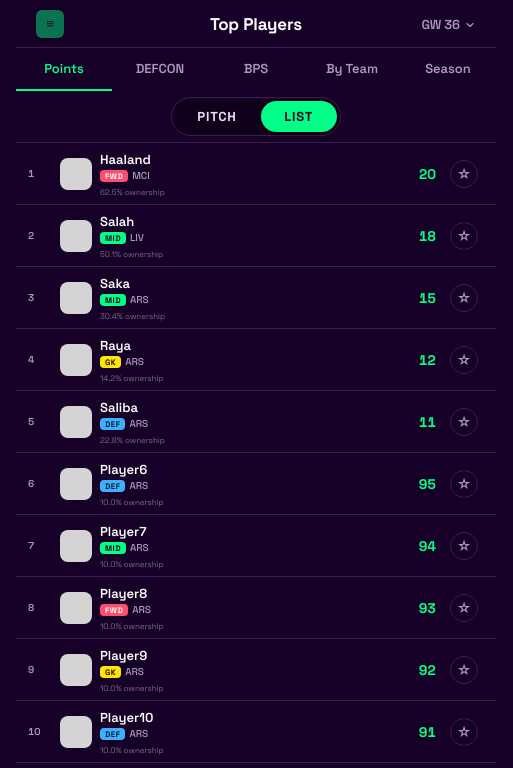
Test: TopPlayersScreen — BPS tab › shows BPS tab content when BPS tab is active
Click the tab "BPS" at (256, 70), box x1=208 y1=48 x2=304 y2=91
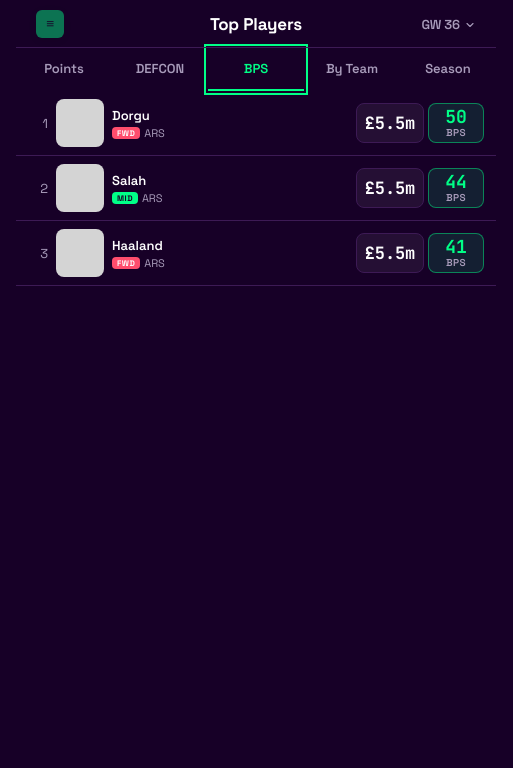
Expected: the text "Salah" is shown, x1=112 y1=172 x2=146 y2=188
Result: the text "Dorgu" is shown at x1=112 y1=106 x2=150 y2=124
